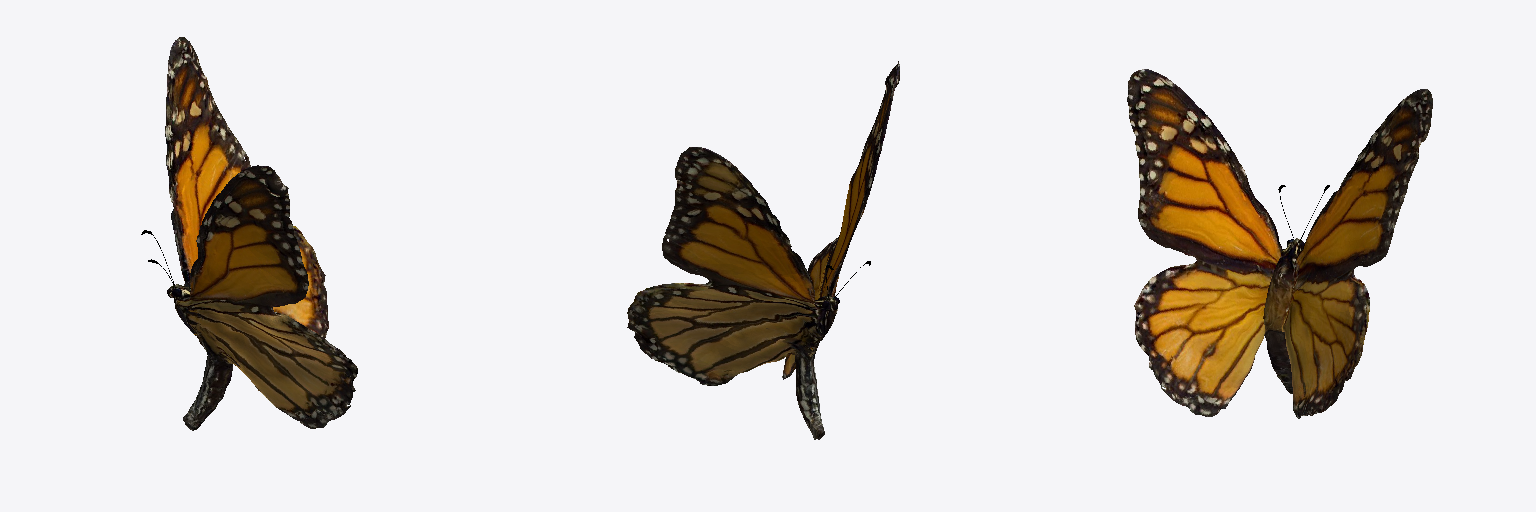
3 renders of one model, left to right at view 1: azimuth 30°, elevation 25°; view 2: azimuth 150°, elevation 25°; view 3: azimuth 270°, elevation 25°, orthographic.
Visible parts, largest first — view 1: Monarchab; view 2: Monarchab; view 3: Monarchab.
Boxes of the visible parts, x1,y1,x2,y2 form: Monarchab: [165, 37, 357, 430]; Monarchab: [627, 61, 899, 439]; Monarchab: [1127, 69, 1432, 418].
Size of the model in its own units: 8.49 by 12.68 by 10.68.
Materials: 3 (1 with a texture image).